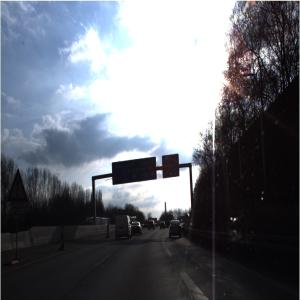DANGER: (8, 169, 30, 203)
